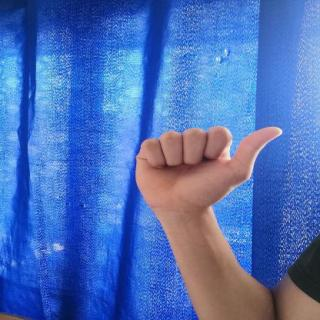DAD: (123, 117, 293, 221)
